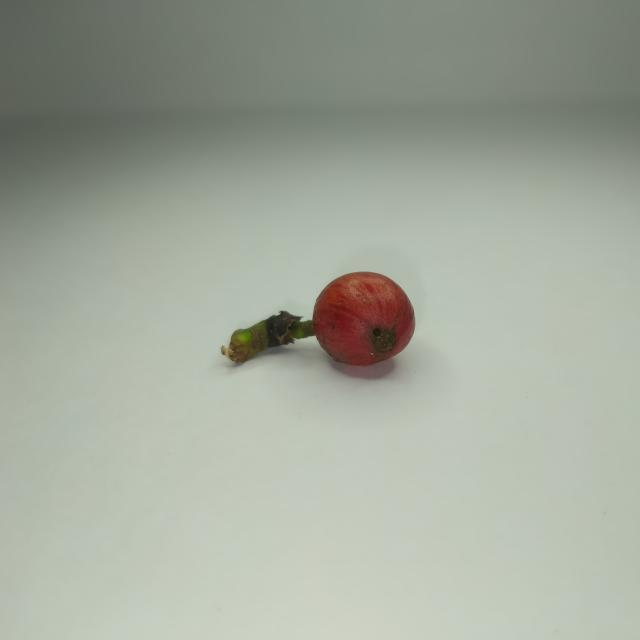Infectado: (312, 272, 416, 371)
